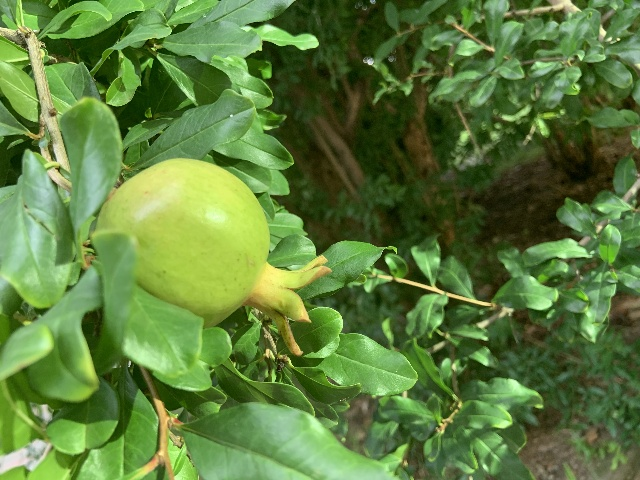mid-growth: (97, 157, 334, 359)
